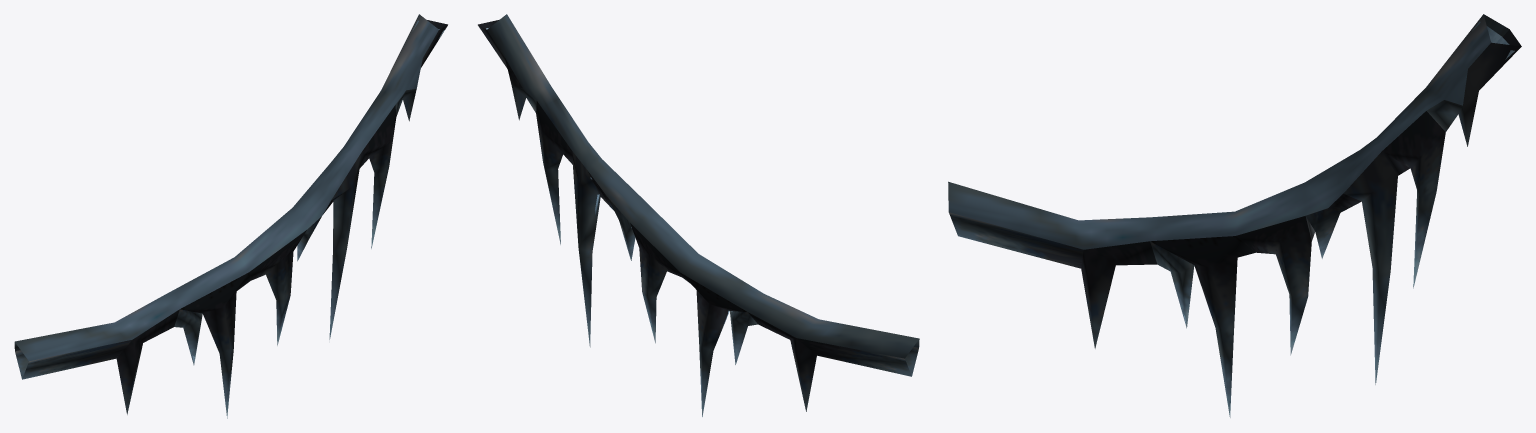
The picture shows the model from 3 angles, left to right: view 1: azimuth 30°, elevation 25°; view 2: azimuth 150°, elevation 25°; view 3: azimuth 330°, elevation 25°; orthographic projection. The views are drawn at different scales.
Visible parts, largest first — view 1: wj53; view 2: wj53; view 3: wj53.
Part boxes in pixels (x1,y1,x2,y2): wj53: [14, 14, 447, 418]; wj53: [478, 14, 919, 416]; wj53: [948, 14, 1521, 417].
Size of the model in its own units: 1545 by 1206 by 119.
2 materials, 2 textured.
